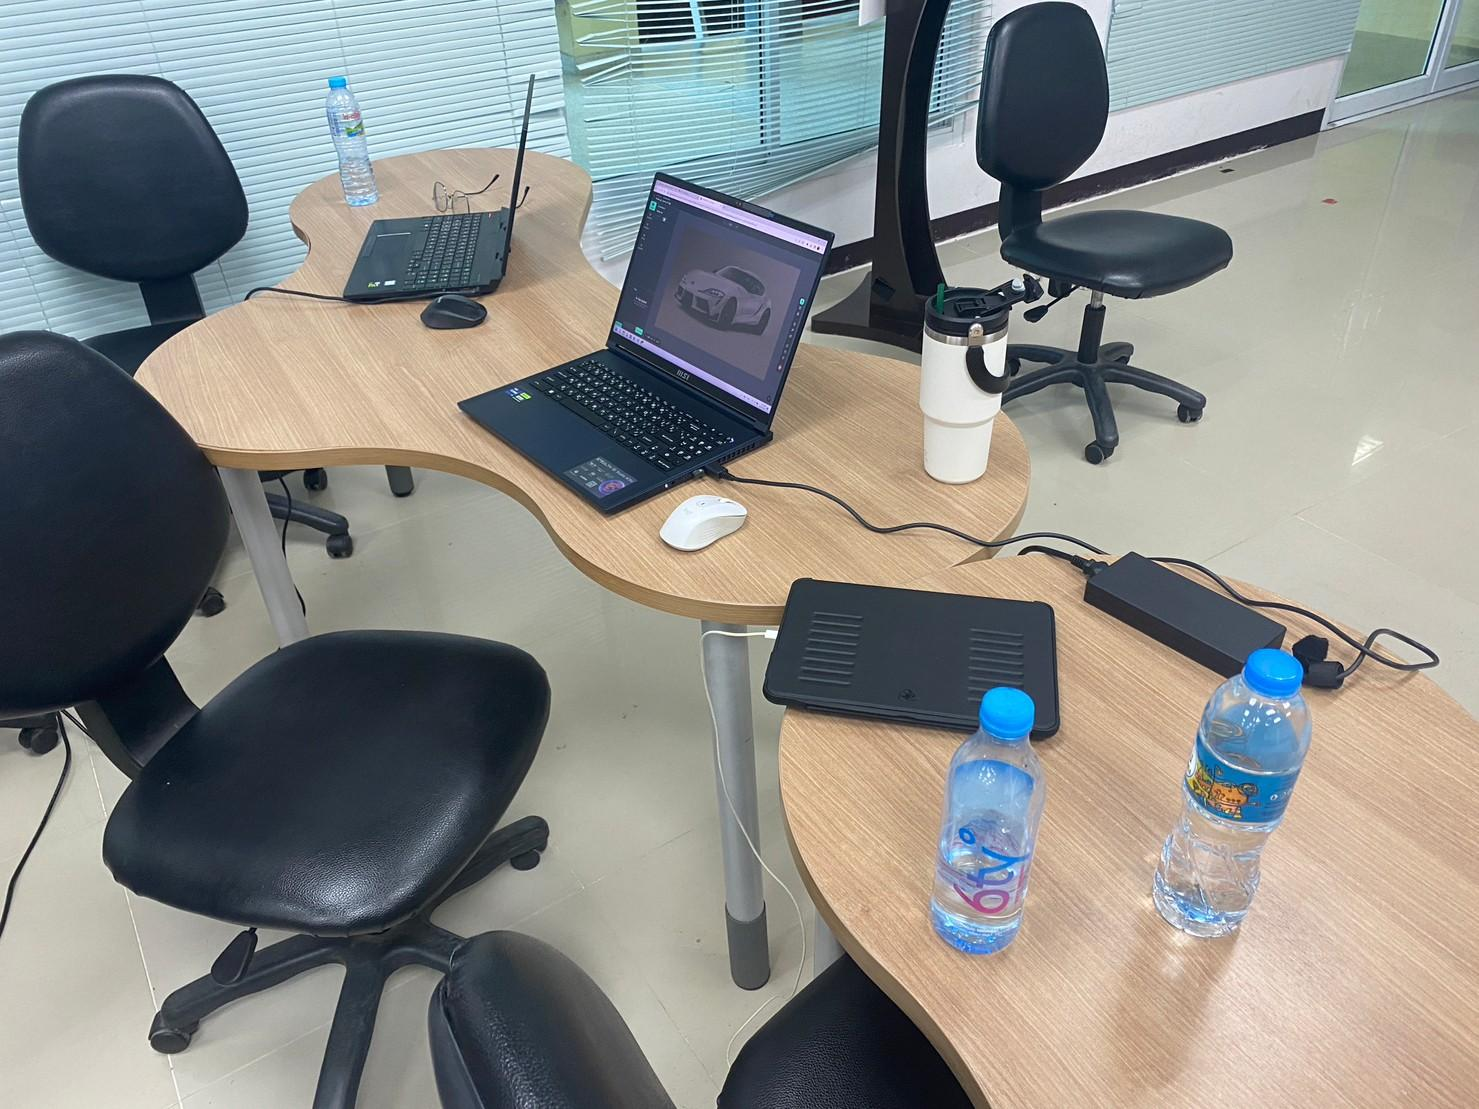bottle: (316, 72, 401, 203)
